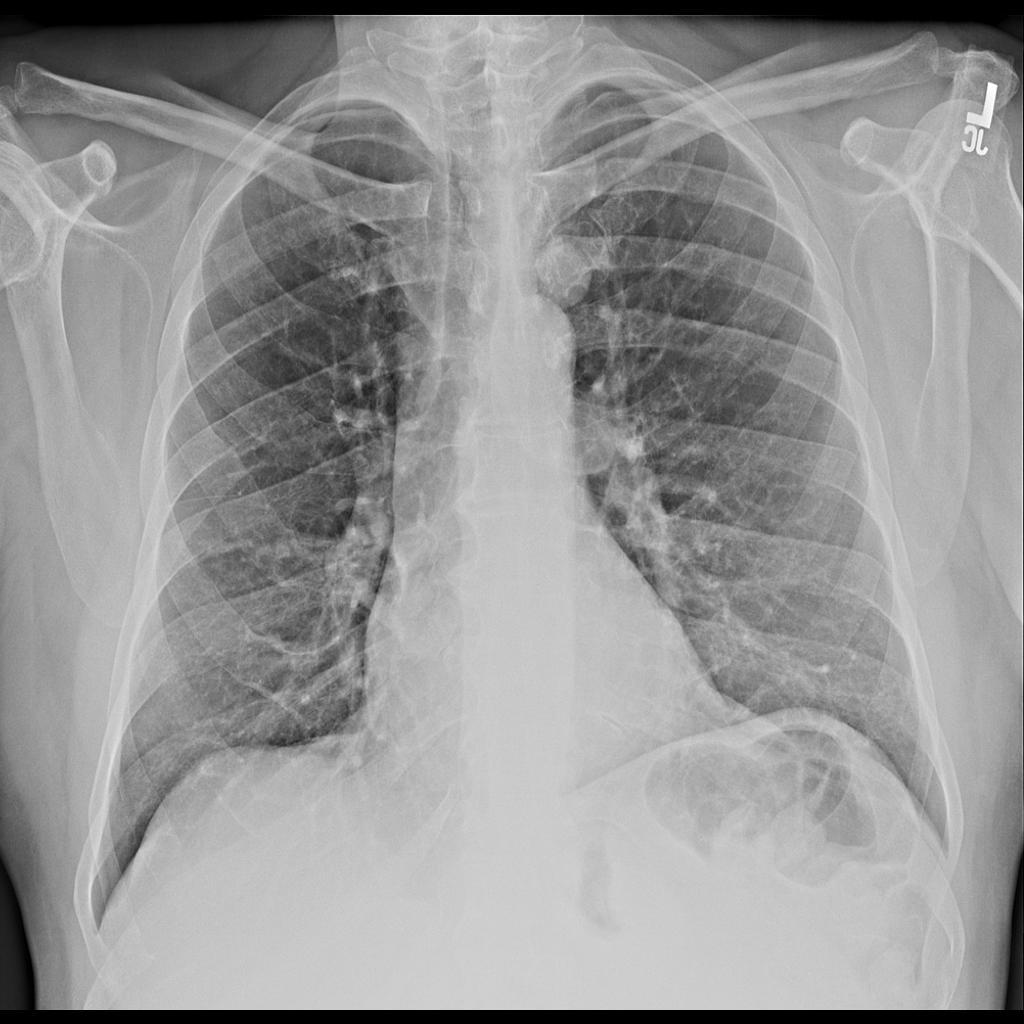Nodule: (538, 242, 596, 319)
